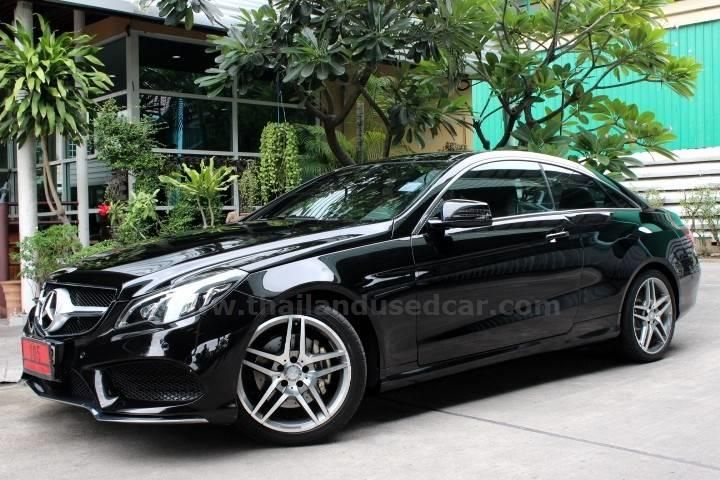sedan: (20, 148, 704, 448)
